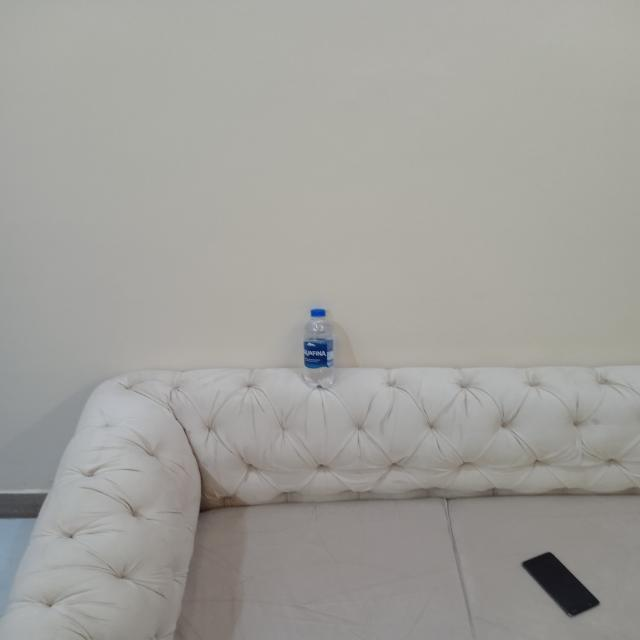Plastic: (296, 301, 342, 394)
